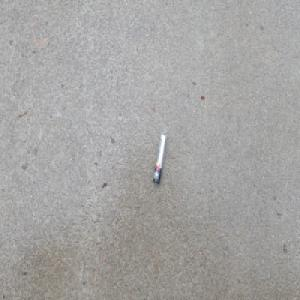Battery: (153, 132, 167, 185)
